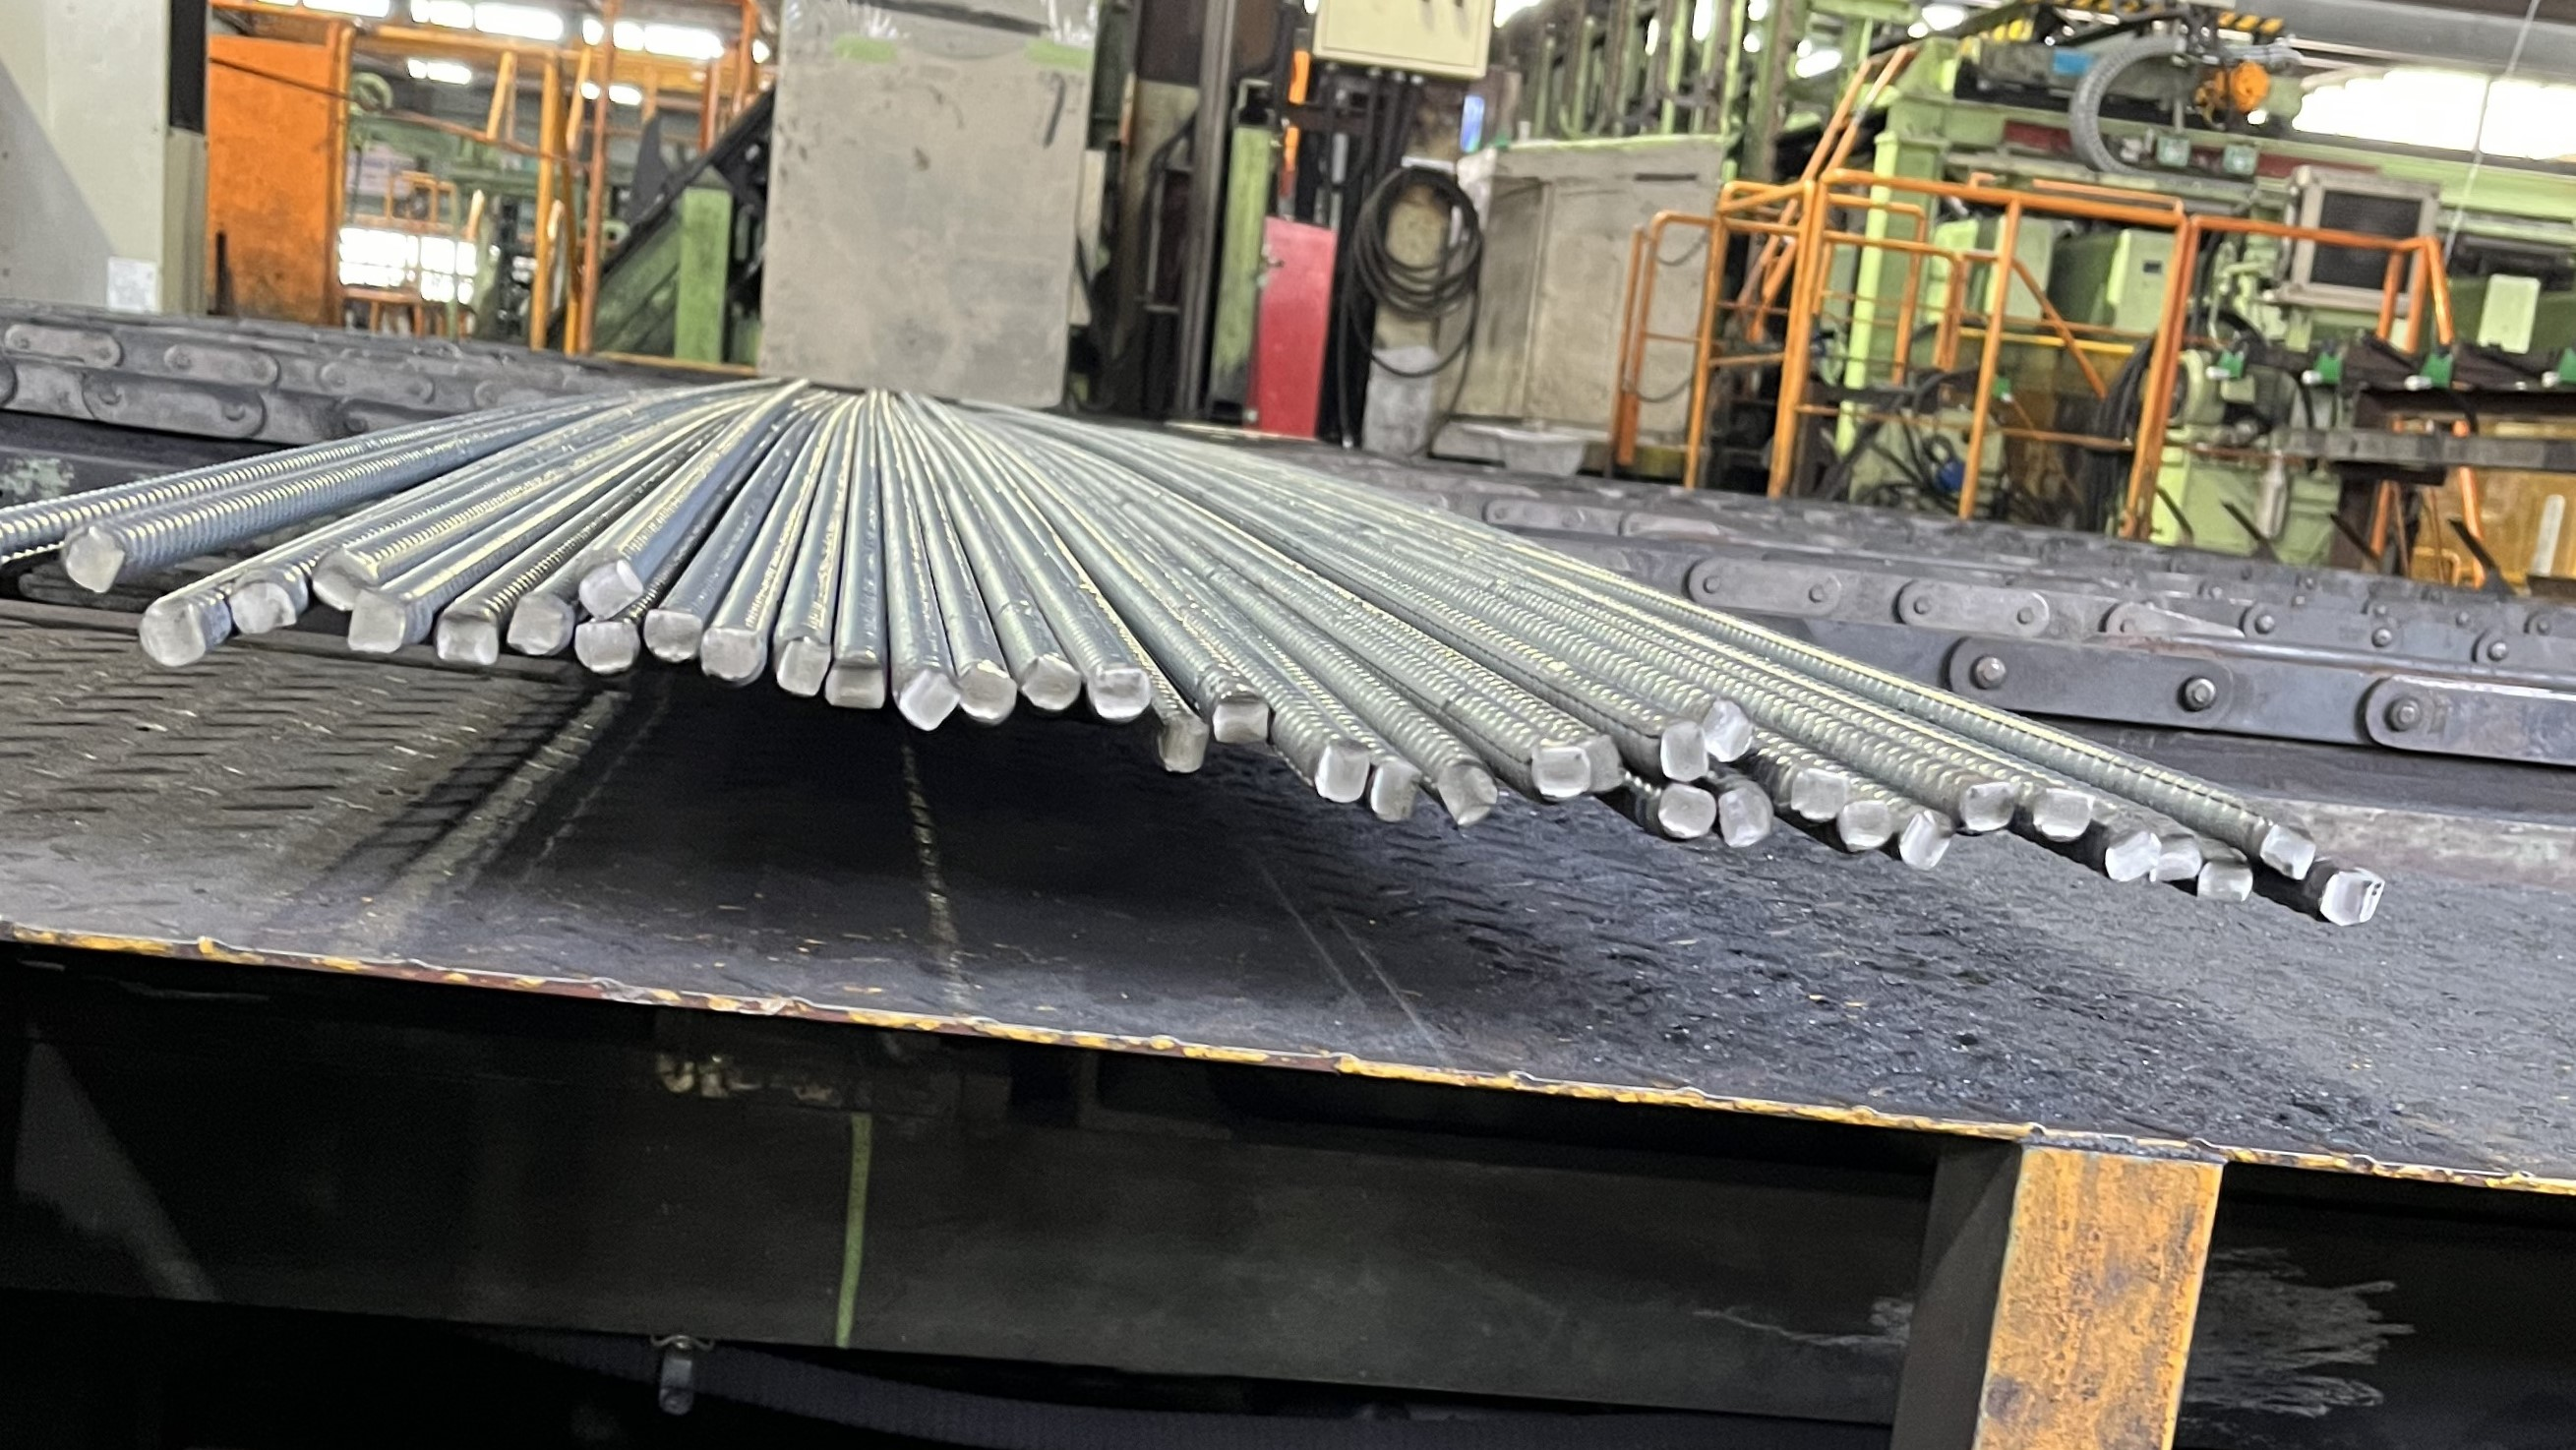rod: (136, 595, 207, 669), (506, 588, 575, 657), (895, 666, 962, 733), (573, 559, 649, 616), (64, 526, 126, 595), (308, 547, 377, 609), (699, 627, 768, 689), (957, 660, 1021, 726), (1435, 758, 1499, 823), (347, 588, 409, 655), (226, 579, 297, 637), (432, 607, 502, 666), (2256, 818, 2319, 882), (571, 618, 642, 675), (823, 648, 886, 710), (1700, 696, 1755, 765), (1023, 652, 1085, 712), (1088, 662, 1152, 721), (1897, 807, 1955, 871), (1313, 737, 1371, 798), (1787, 765, 1849, 823), (2104, 823, 2166, 882), (1529, 745, 1594, 800), (1718, 784, 1773, 850), (2029, 790, 2095, 845), (775, 636, 832, 698), (1656, 783, 1718, 839), (644, 605, 704, 662), (1658, 719, 1711, 783), (1369, 761, 1426, 820), (2316, 868, 2373, 926), (1157, 713, 1212, 774), (1212, 692, 1274, 745), (1836, 797, 1893, 853), (1959, 781, 2017, 834), (2194, 859, 2258, 905), (2150, 832, 2204, 885), (1578, 733, 1628, 791)
